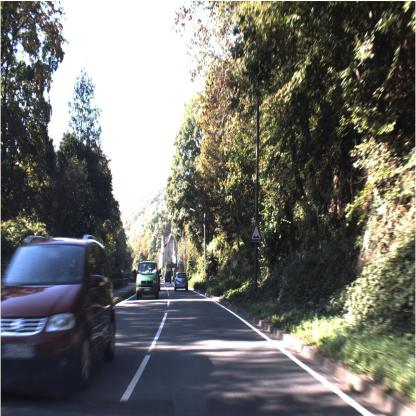danger: (246, 219, 264, 247)
